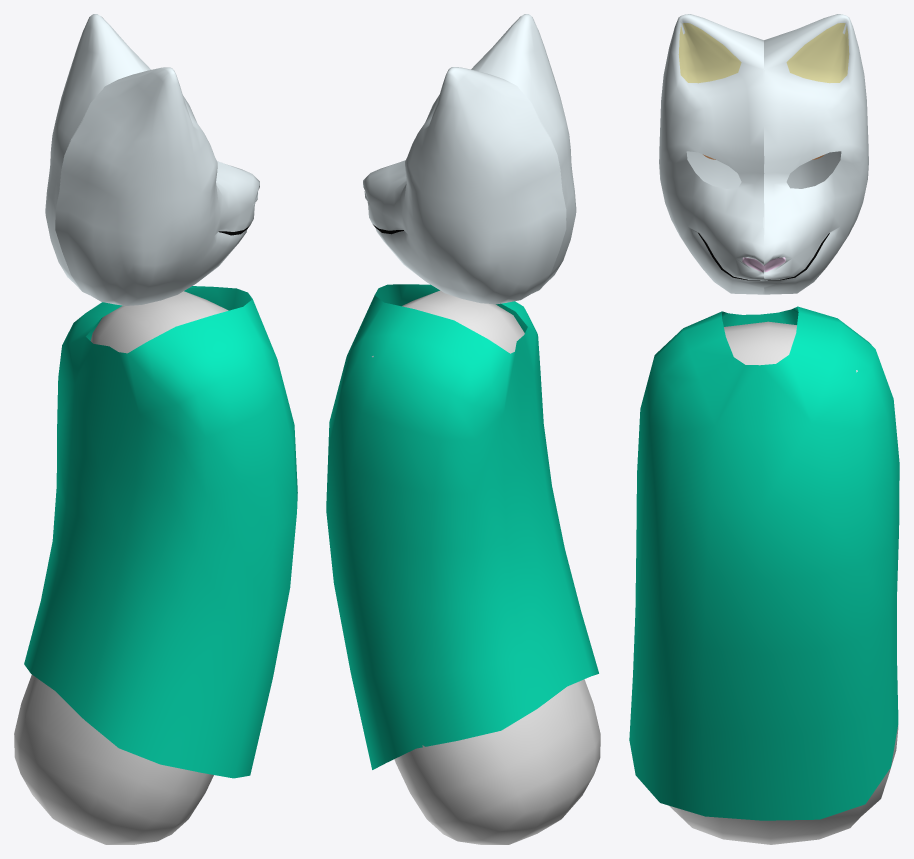
Rendered from NPC 9.fbx.
The picture shows the model from 3 angles, left to right: view 1: azimuth 30°, elevation 25°; view 2: azimuth 150°, elevation 25°; view 3: azimuth 270°, elevation 25°; orthographic projection. The views are drawn at different scales.
Visible parts, largest first — view 1: T-shirt.011, Mask.009, body.011; view 2: T-shirt.011, Mask.009, body.011; view 3: T-shirt.011, Mask.009, body.011.
Part boxes in pixels (left/top/right/bottom): T-shirt.011: left=24, top=286, right=297, bottom=778; Mask.009: left=45, top=14, right=259, bottom=305; body.011: left=14, top=291, right=228, bottom=844; T-shirt.011: left=326, top=284, right=598, bottom=769; Mask.009: left=363, top=14, right=576, bottom=304; body.011: left=372, top=290, right=600, bottom=844; T-shirt.011: left=629, top=306, right=899, bottom=820; Mask.009: left=659, top=14, right=868, bottom=294; body.011: left=669, top=321, right=898, bottom=844.
Bounding box in the file's own units: 2.26 × 7.21 × 2.12.
